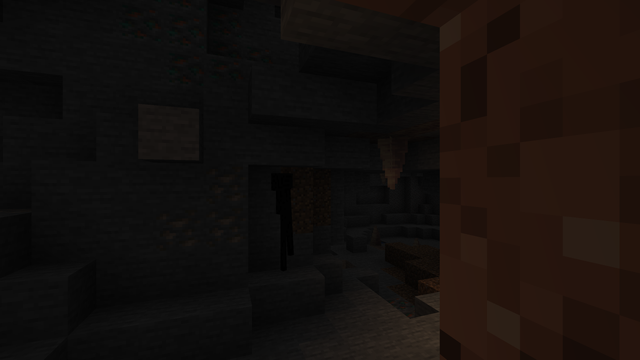endermens: (268, 169, 292, 272)
